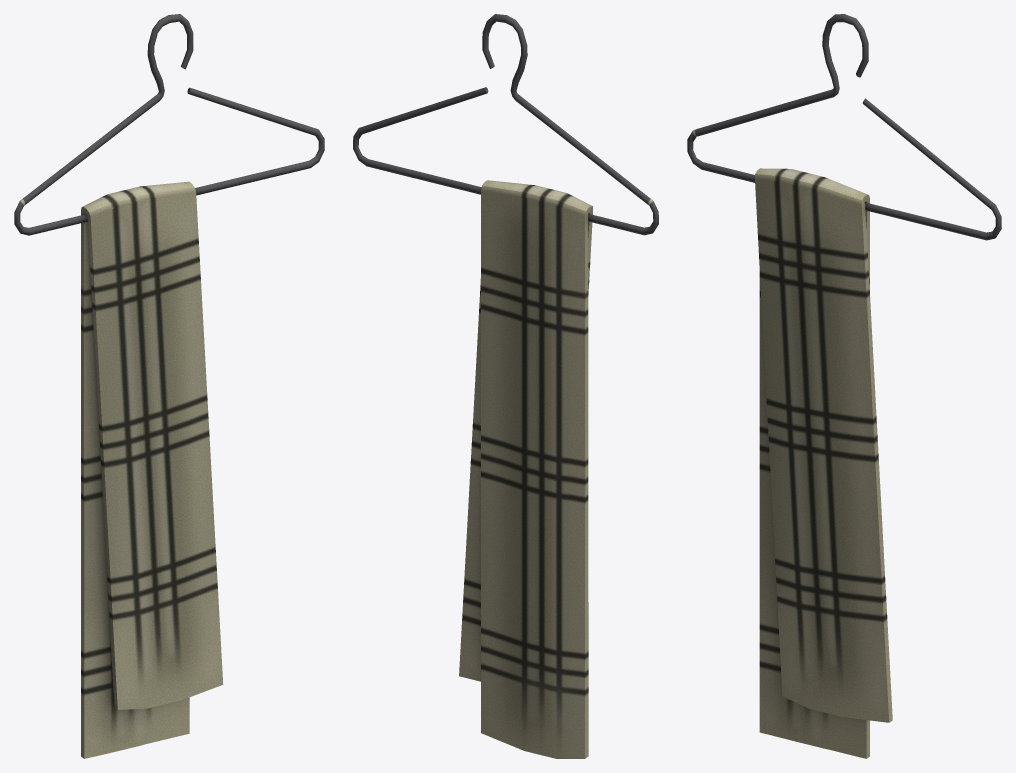
File: frl_apartment_cloth_02.glb
The picture shows the model from 3 angles, left to right: view 1: azimuth 30°, elevation 25°; view 2: azimuth 150°, elevation 25°; view 3: azimuth 330°, elevation 25°; orthographic projection. The views are drawn at different scales.
Parts seen in each view (by area): view 1: frl_apartment_cloth_02; view 2: frl_apartment_cloth_02; view 3: frl_apartment_cloth_02.
Boxes of the visible parts, x1,y1,x2,y2 form: frl_apartment_cloth_02: (14, 14, 324, 758); frl_apartment_cloth_02: (353, 14, 658, 758); frl_apartment_cloth_02: (687, 14, 1001, 758).
Size of the model in its own units: 0.546 by 1.24 by 0.0394.
1 material, 1 textured.
